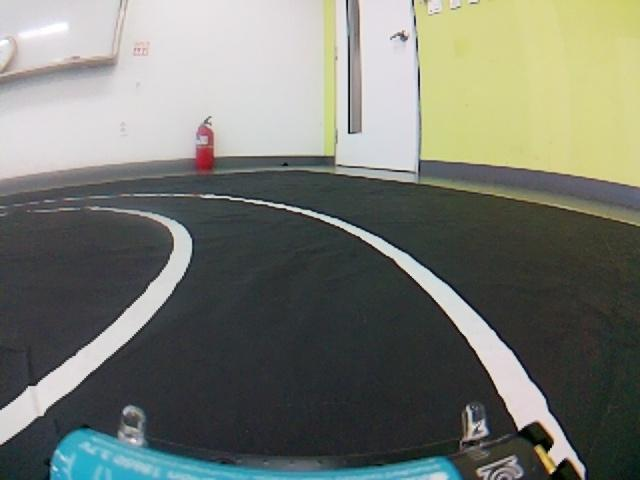left: (1, 189, 640, 480)
